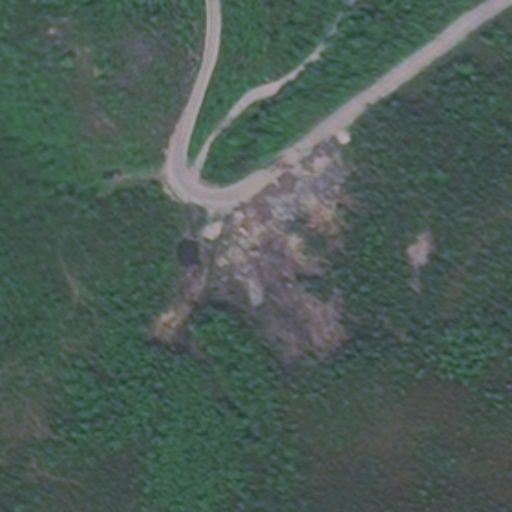landslide: (147, 137, 353, 360)
